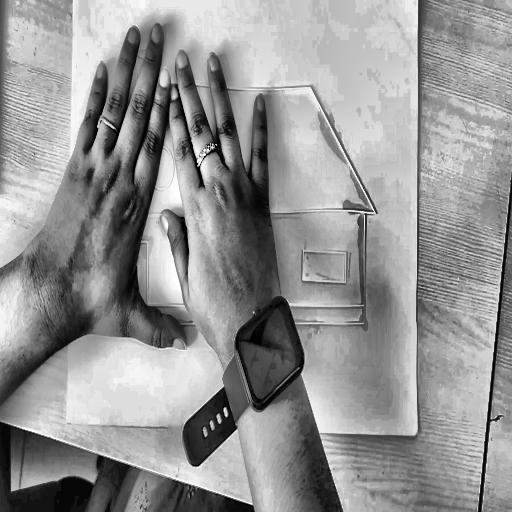bottom_left: (63, 415, 71, 429)
bottom_right: (411, 427, 420, 443)
house: (98, 36, 387, 352)
